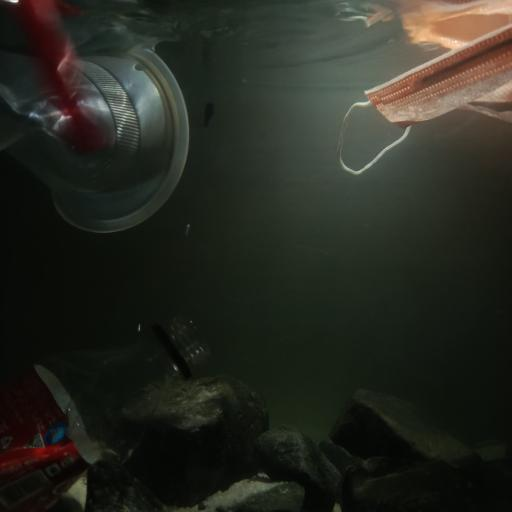mask: (336, 23, 512, 175)
plastic_bottle: (0, 312, 211, 512)
plastic_cup: (0, 47, 190, 231)
